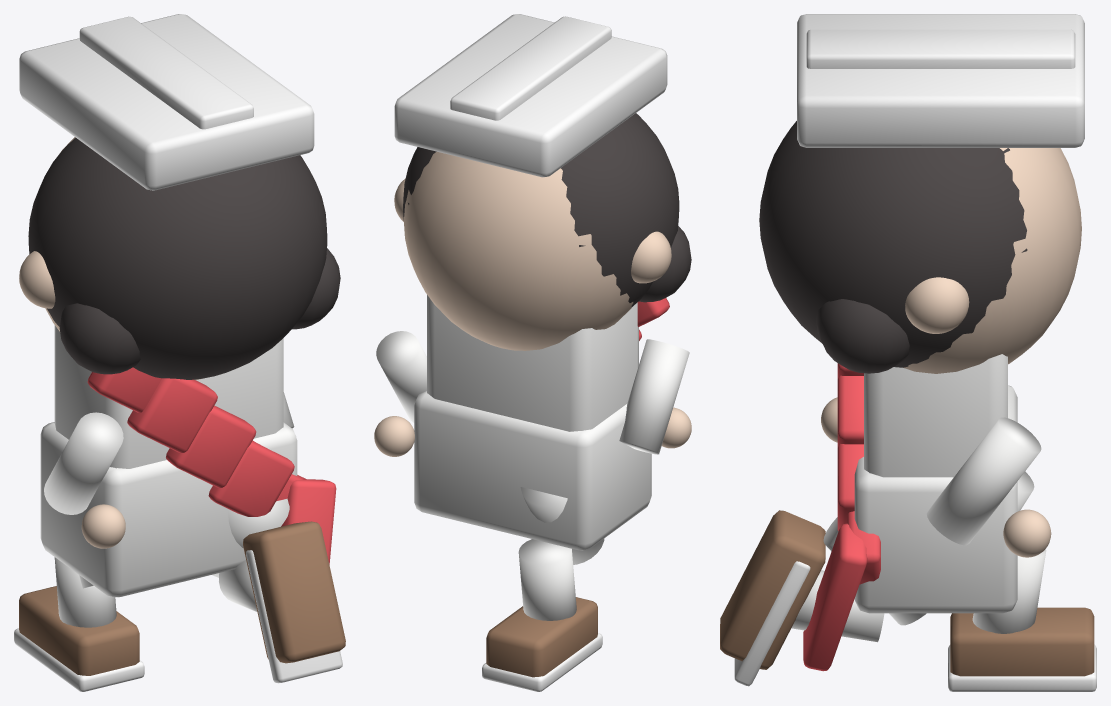
File: chibi_leader.glb
3 views of the same model, side by side, from view 1: azimuth 30°, elevation 25°; view 2: azimuth 150°, elevation 25°; view 3: azimuth 270°, elevation 25° (orthographic). The views are drawn at different scales.
Visible parts, largest first — view 1: Hair, CapBase, Skirt, ShoeR, Torso, CapTop, ShoeL, ArmL, Sash_1, HairCurl_-0.24, Sash_2, Sash_3 (+10 smaller); view 2: Head, Skirt, CapBase, Torso, Hair, CapTop, ShoeL, ArmL, ShinL, ArmR, SoleL, HairCurl_-0.24 (+5 smaller); view 3: Hair, CapBase, Skirt, Head, Torso, CapTop, ShoeL, ShoeR, ArmR, HairCurl_0.24, SashTail, EarR (+10 smaller).
Part boxes in pixels (left/top/right/bottom): Hair: left=28, top=138, right=327, bottom=379; CapBase: left=19, top=14, right=314, bottom=190; Skirt: left=40, top=422, right=297, bottom=597; ShoeR: left=243, top=521, right=345, bottom=663; Torso: left=54, top=325, right=283, bottom=468; CapTop: left=79, top=16, right=253, bottom=129; ShoeL: left=19, top=586, right=139, bottom=675; ArmL: left=44, top=412, right=123, bottom=514; Sash_1: left=127, top=378, right=217, bottom=452; HairCurl_-0.24: left=59, top=303, right=140, bottom=374; Sash_2: left=166, top=405, right=256, bottom=487; Sash_3: left=208, top=441, right=294, bottom=516; Head: left=404, top=151, right=633, bottom=350; Skirt: left=414, top=391, right=651, bottom=550; CapBase: left=394, top=14, right=667, bottom=177; Torso: left=427, top=295, right=638, bottom=431; Hair: left=403, top=113, right=679, bottom=306; CapTop: left=450, top=16, right=611, bottom=120; ShoeL: left=486, top=597, right=597, bottom=677; ArmL: left=619, top=339, right=689, bottom=454; ShinL: left=518, top=539, right=576, bottom=620; ArmR: left=376, top=331, right=426, bottom=422; SoleL: left=482, top=633, right=602, bottom=691; HairCurl_-0.24: left=639, top=226, right=691, bottom=302; Hair: left=759, top=121, right=1027, bottom=367; CapBase: left=797, top=14, right=1084, bottom=147; Skirt: left=854, top=385, right=1017, bottom=613; Head: left=903, top=148, right=1081, bottom=373; Torso: left=864, top=354, right=1007, bottom=477; CapTop: left=806, top=29, right=1075, bottom=68; ShoeL: left=950, top=607, right=1094, bottom=676; ShoeR: left=720, top=510, right=825, bottom=669; ArmR: left=926, top=417, right=1041, bottom=545; HairCurl_0.24: left=816, top=299, right=909, bottom=373; SashTail: left=803, top=523, right=867, bottom=671; EarR: left=905, top=277, right=969, bottom=333.
Size of the model in its own units: 0.76 by 1.52 by 0.785.
